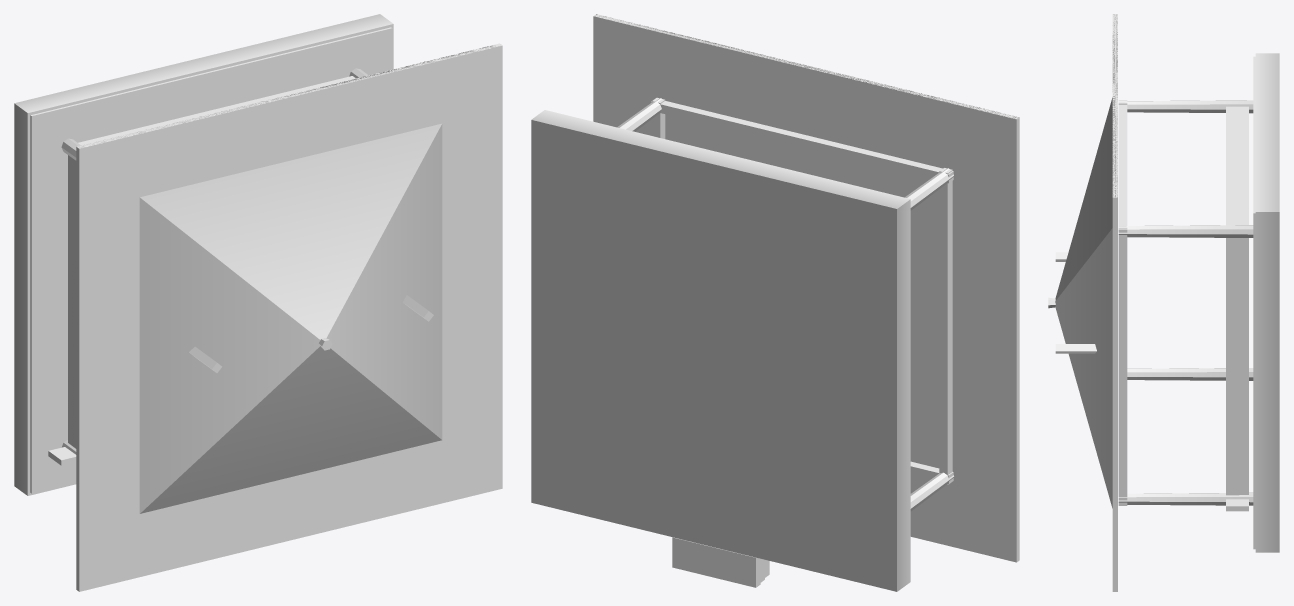
The model's file is SM_Azumaya_Pavilion.glb.
3 views of the same model, side by side, from view 1: azimuth 30°, elevation 25°; view 2: azimuth 150°, elevation 25°; view 3: azimuth 270°, elevation 25° (orthographic). The views are drawn at different scales.
Visible parts, largest first — view 1: asset_azumaya; view 2: asset_azumaya; view 3: asset_azumaya.
Part boxes in pixels (x1,y1,x2,y2): asset_azumaya: (14,14,502,591); asset_azumaya: (531,14,1019,591); asset_azumaya: (1048,14,1279,591).
Size of the model in its own units: 8.1 by 8.11 by 4.31.
Materials: 2 (2 with a texture image).
